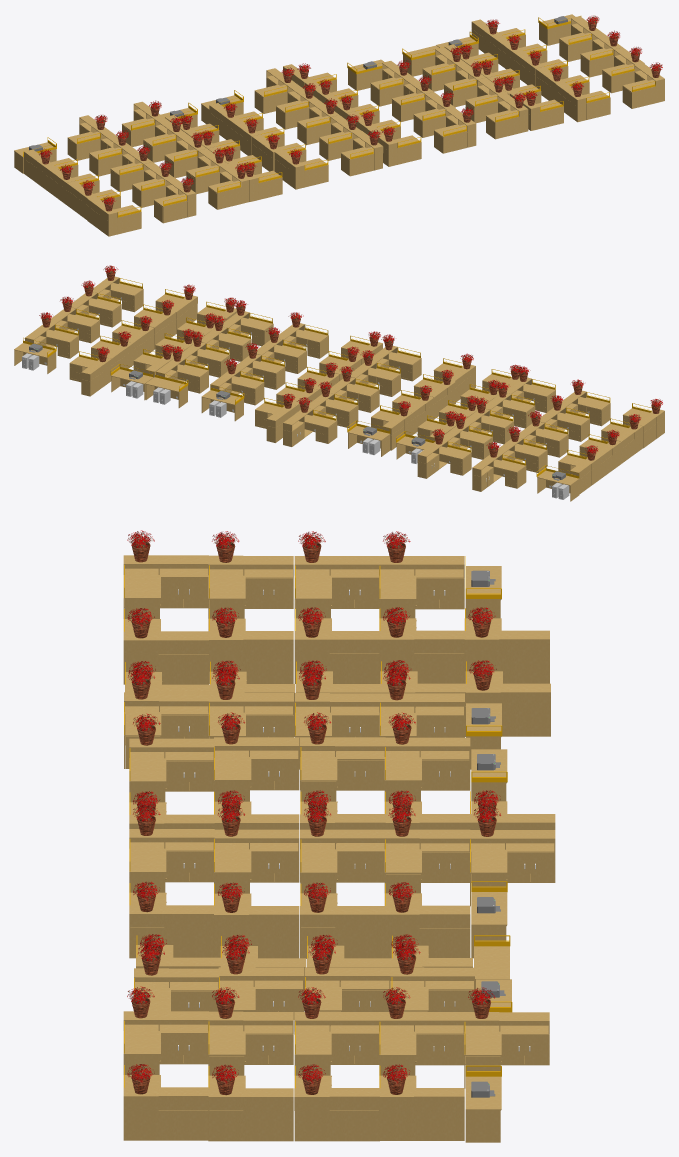
Rendered from 5楼桌椅.gltf.
The picture shows the model from 3 angles, top to bottom: view 1: azimuth 30°, elevation 25°; view 2: azimuth 150°, elevation 25°; view 3: azimuth 270°, elevation 25°; orthographic projection. The views are drawn at different scales.
Visible parts, largest first — view 1: 办公桌 2 [707459], 办公桌 2 [776577], 办公桌 2 [776652], 办公桌 2 [707372], 办公桌 2 [707875], 办公桌 2 [776286], 办公桌 2 [705675], 办公桌 2 [707887], 办公桌 2 [705527], 办公桌 2 [707360], 办公桌 2 [776339], 办公桌 2 [707471] (+24 smaller); view 2: no part large enough to name; view 3: 办公柜子 [707882] (×2), 办公柜子 [707888] (×2), 办公柜子 [707885] (×2), 办公柜子 [707879] (×2), 办公桌 2 [707890] (×2), 办公柜子 [705667], 办公柜子 [707868], 办公柜子 [707460], 办公柜子 [705432], 办公柜子 [705489], 办公柜子 [776645], 办公柜子 [705333] (+49 smaller).
Part boxes in pixels (bbox=[...]): 办公桌 2 [707459]: bbox=[397, 142, 421, 164]; 办公桌 2 [776577]: bbox=[258, 177, 282, 199]; 办公桌 2 [776652]: bbox=[217, 187, 241, 209]; 办公桌 2 [707372]: bbox=[304, 165, 328, 187]; 办公桌 2 [707875]: bbox=[586, 97, 610, 119]; 办公桌 2 [776286]: bbox=[495, 116, 519, 139]; 办公桌 2 [705675]: bbox=[117, 212, 141, 234]; 办公桌 2 [707887]: bbox=[631, 86, 655, 108]; 办公桌 2 [705527]: bbox=[163, 200, 186, 223]; 办公桌 2 [707360]: bbox=[350, 154, 373, 176]; 办公桌 2 [776339]: bbox=[540, 106, 563, 128]; 办公桌 2 [707471]: bbox=[443, 131, 466, 153]; 办公柜子 [707882] (×2): bbox=[295, 1111, 378, 1141]; 办公柜子 [707888] (×2): bbox=[124, 1110, 207, 1140]; 办公柜子 [707885] (×2): bbox=[209, 1111, 292, 1141]; 办公柜子 [707879] (×2): bbox=[380, 1111, 463, 1140]; 办公桌 2 [707890] (×2): bbox=[465, 1076, 501, 1142]; 办公柜子 [705667]: bbox=[415, 579, 464, 608]; 办公柜子 [707868]: bbox=[415, 1035, 464, 1064]; 办公柜子 [707460]: bbox=[165, 852, 213, 881]; 办公柜子 [705432]: bbox=[415, 654, 463, 683]; 办公柜子 [705489]: bbox=[244, 654, 292, 683]; 办公柜子 [776645]: bbox=[502, 707, 549, 736]; 办公柜子 [705333]: bbox=[500, 654, 548, 683].
Size of the model in its own units: 25.09 by 1.55 by 8.39.
Materials: 18 (2 with a texture image).
